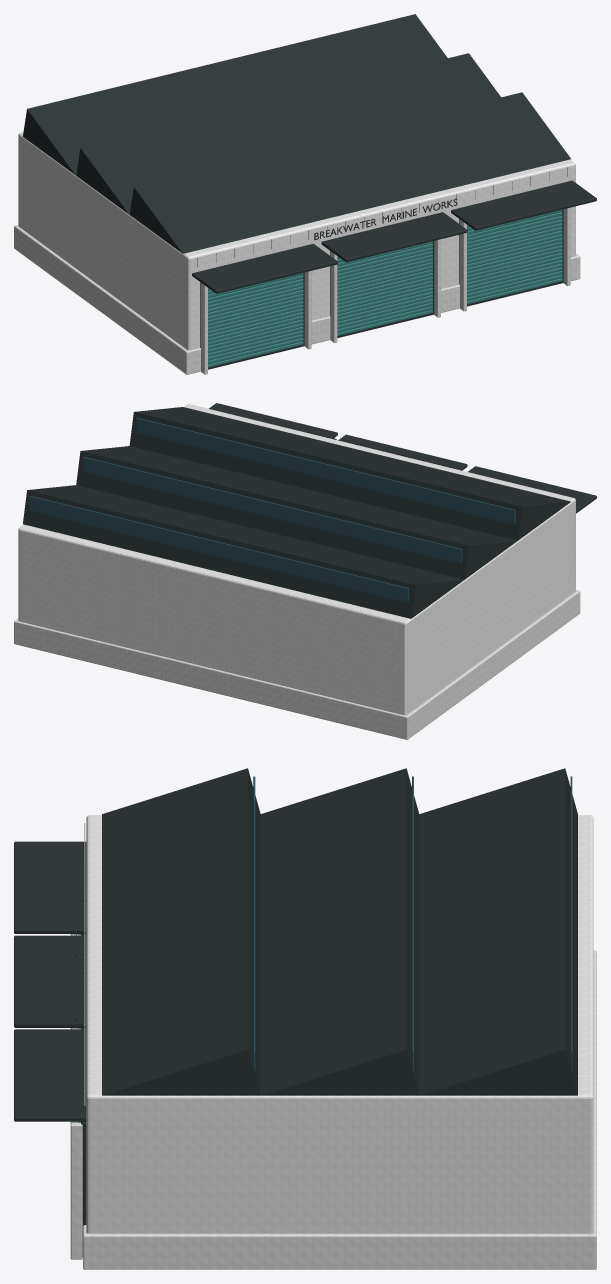
File: warehouse.glb
The picture shows the model from 3 angles, top to bottom: view 1: azimuth 30°, elevation 25°; view 2: azimuth 150°, elevation 25°; view 3: azimuth 270°, elevation 25°; orthographic projection. The views are drawn at different scales.
Parts seen in each view (by area): view 1: warehouse_body; view 2: warehouse_body; view 3: warehouse_body.
Boxes of the visible parts, x1=… form: warehouse_body: x1=14, y1=14, x2=596, y2=374; warehouse_body: x1=14, y1=403, x2=596, y2=739; warehouse_body: x1=14, y1=768, x2=596, y2=1269.
Size of the model in its own units: 21.3 by 7.6 by 18.38.
Materials: 5 (2 with a texture image).
